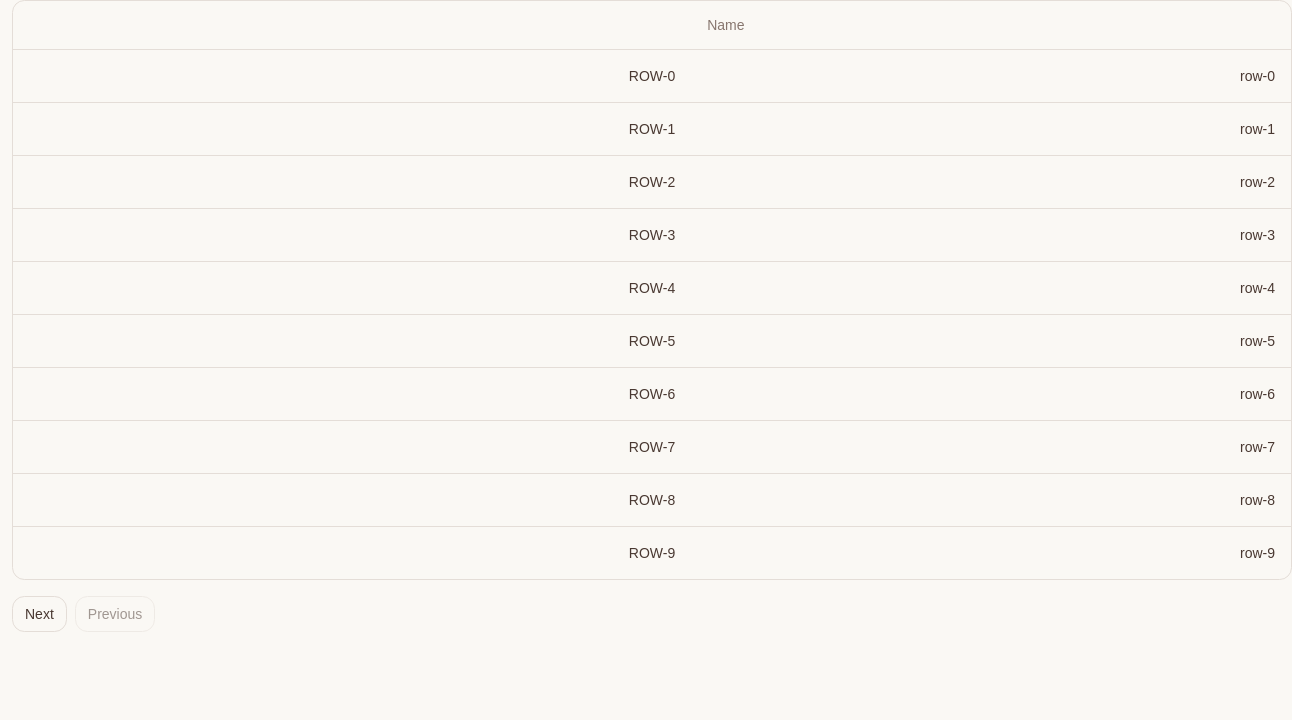
Scenario: data tables › the admin table paginates forward and back
Expected: the button "Previous" is disabled, 75,596 -> 155,632
Click the button "Next" at point(39, 614), box 12,596 -> 67,632
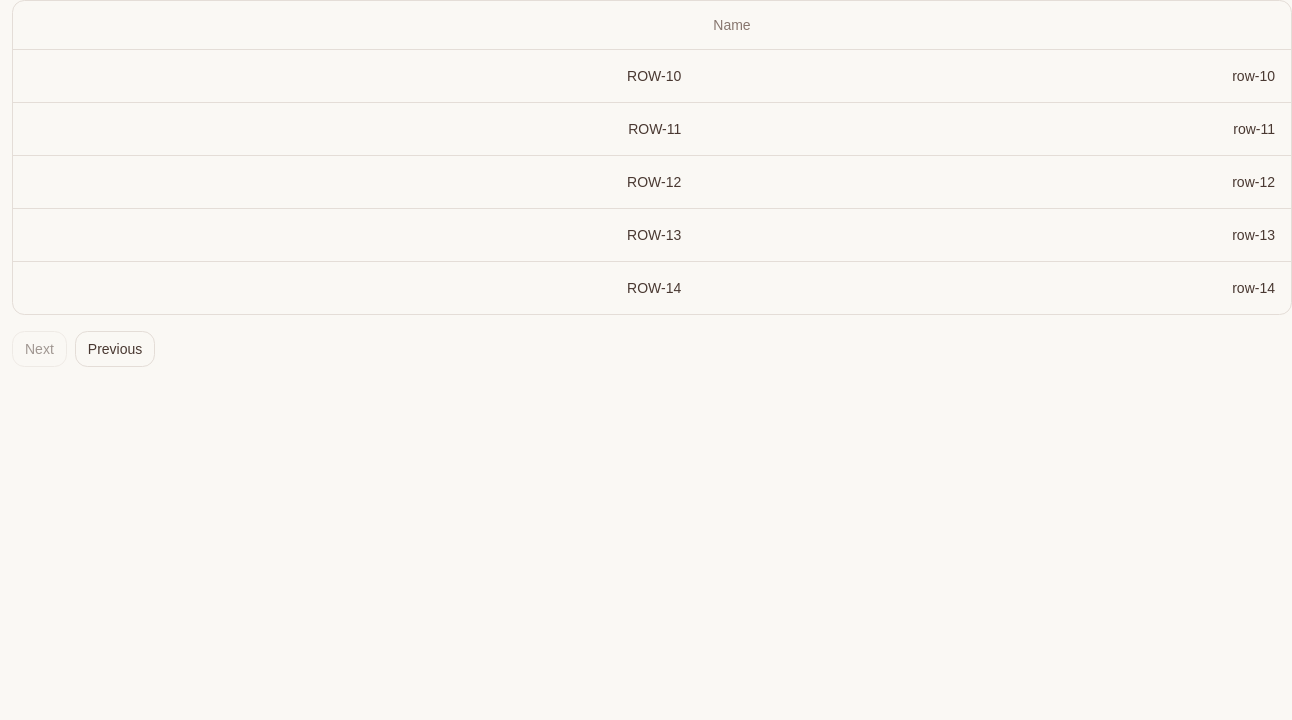
Result: the button "Previous" is enabled
Click the button "Previous" at point(115, 348), box 75,330 -> 155,366
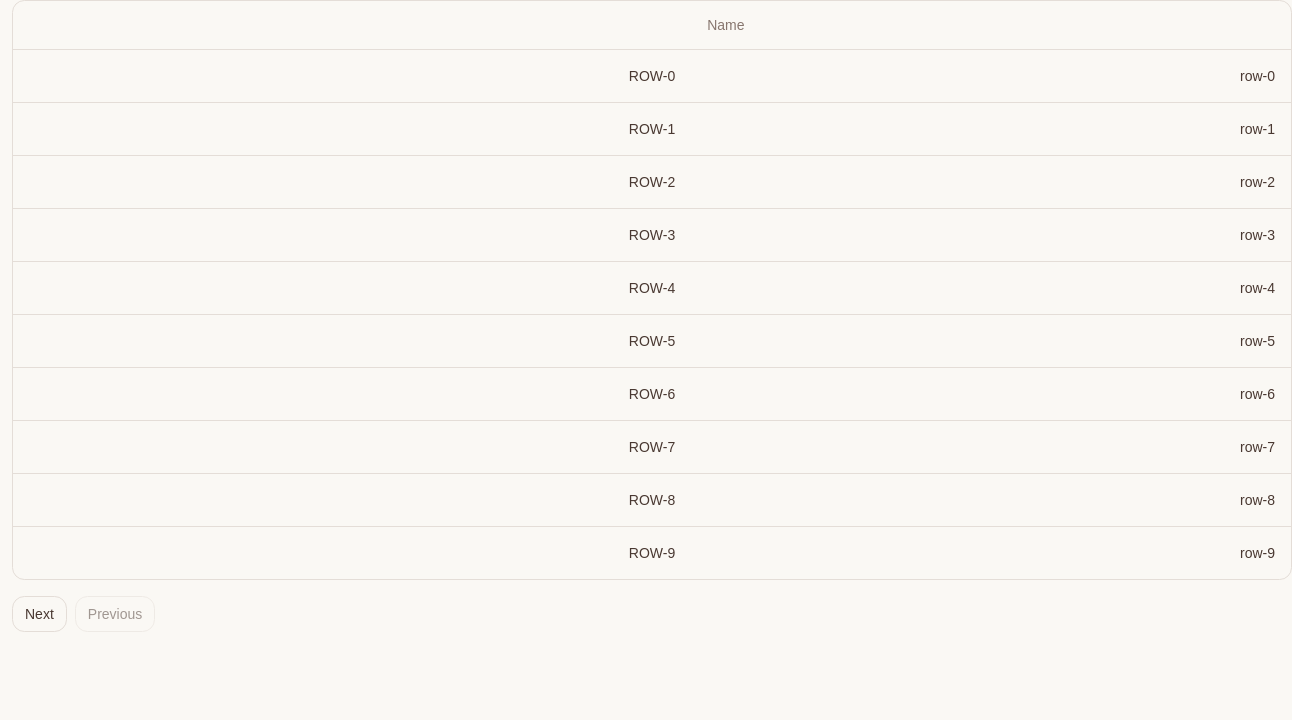
Result: the button "Previous" is disabled at 75,596 -> 155,632
